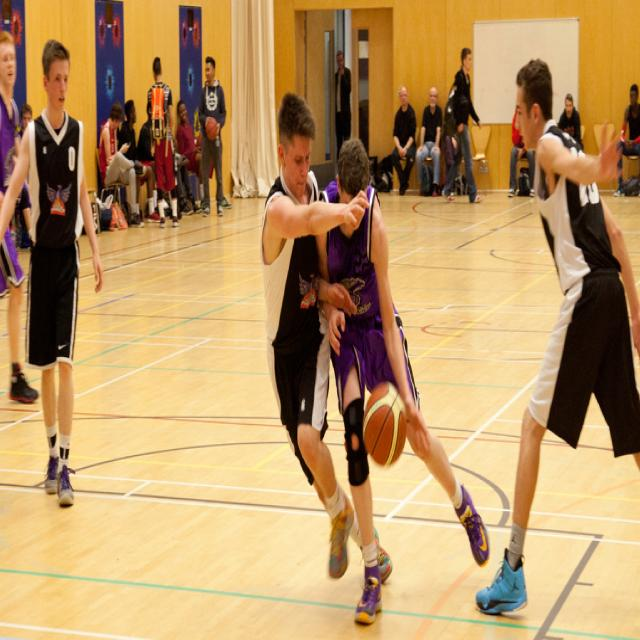Ball: (362, 381, 407, 467)
